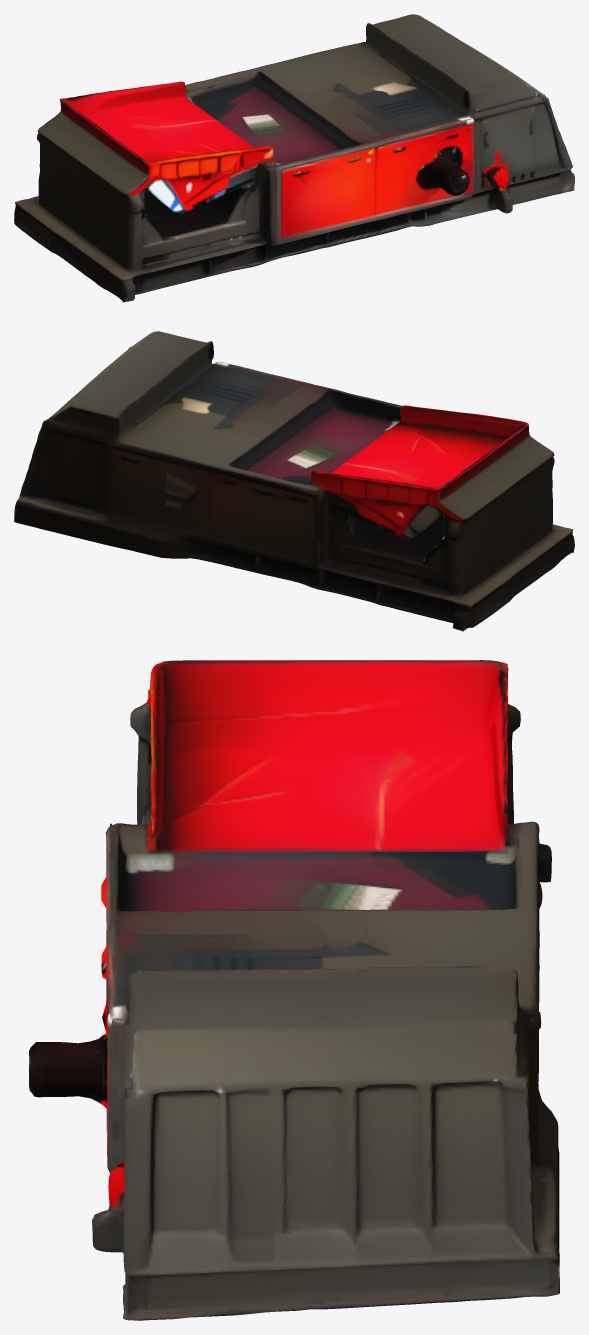
Rendered from ECS_Medium.fbx.
The picture shows the model from 3 angles, top to bottom: view 1: azimuth 30°, elevation 25°; view 2: azimuth 150°, elevation 25°; view 3: azimuth 270°, elevation 25°; orthographic projection. The views are drawn at different scales.
Parts seen in each view (by area): view 1: model; view 2: model; view 3: model.
Part boxes in pixels (x1=…): model: x1=14, y1=14, x2=574, y2=302; model: x1=14, y1=331, x2=574, y2=631; model: x1=29, y1=660, x2=559, y2=1320.
Bounding box in the file's own units: 189 × 49.53 × 94.96.
